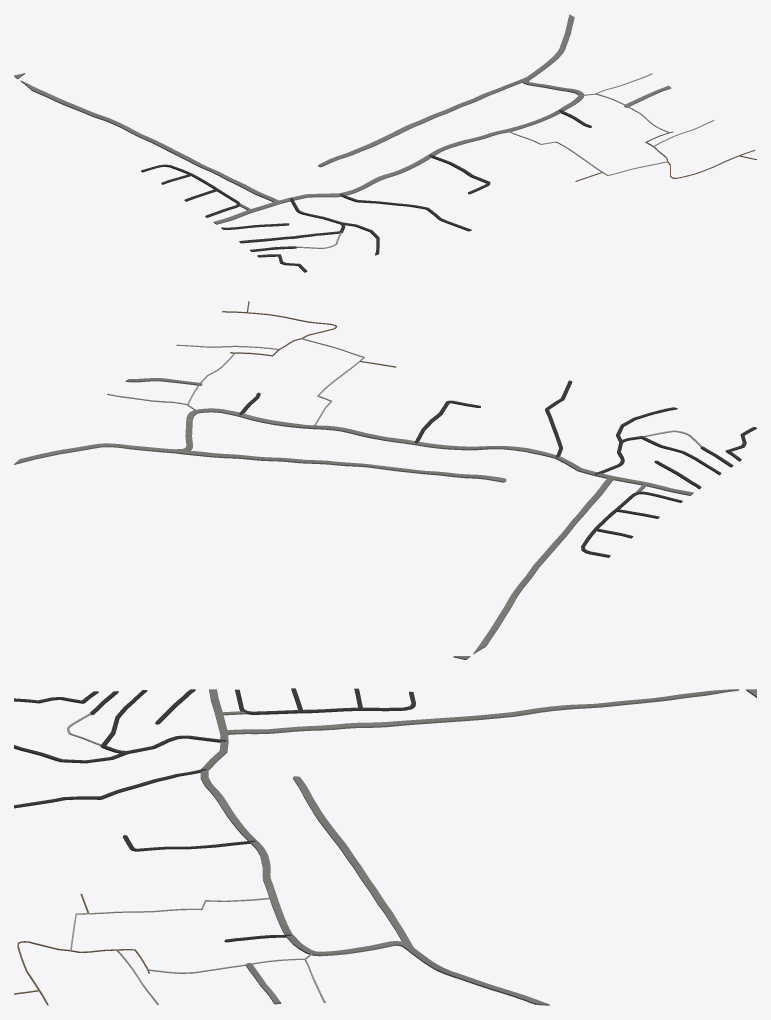
The model's file is 16-54719-29730.b8bcd30a.glb.
3 renders of one model, top to bottom at view 1: azimuth 30°, elevation 25°; view 2: azimuth 150°, elevation 25°; view 3: azimuth 270°, elevation 25°, orthographic. The views are drawn at different scales.
Bounding box in the file's own units: 587 × 10.06 × 583.
